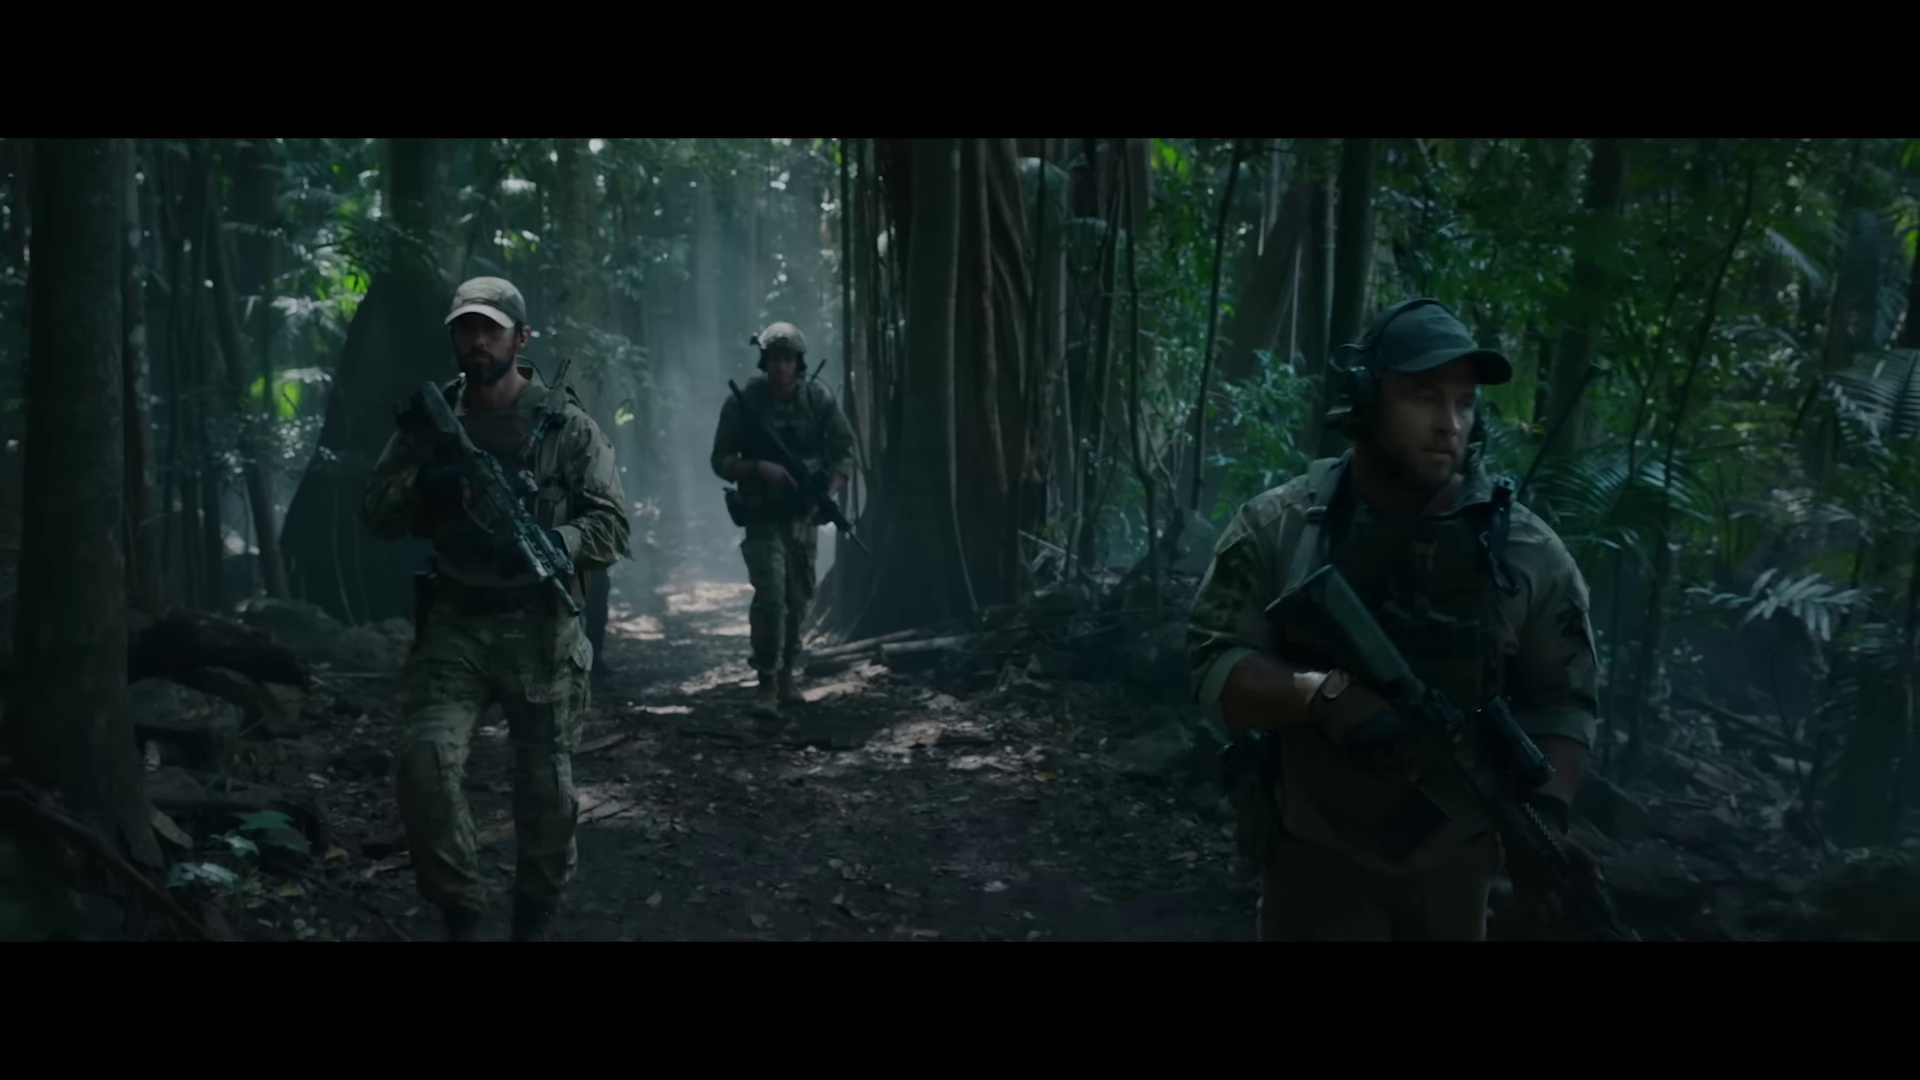gun: (1266, 549, 1630, 935), (397, 377, 605, 642), (719, 373, 876, 566)
p_w_gun: (1182, 293, 1658, 940), (359, 273, 637, 939), (708, 315, 872, 729)
